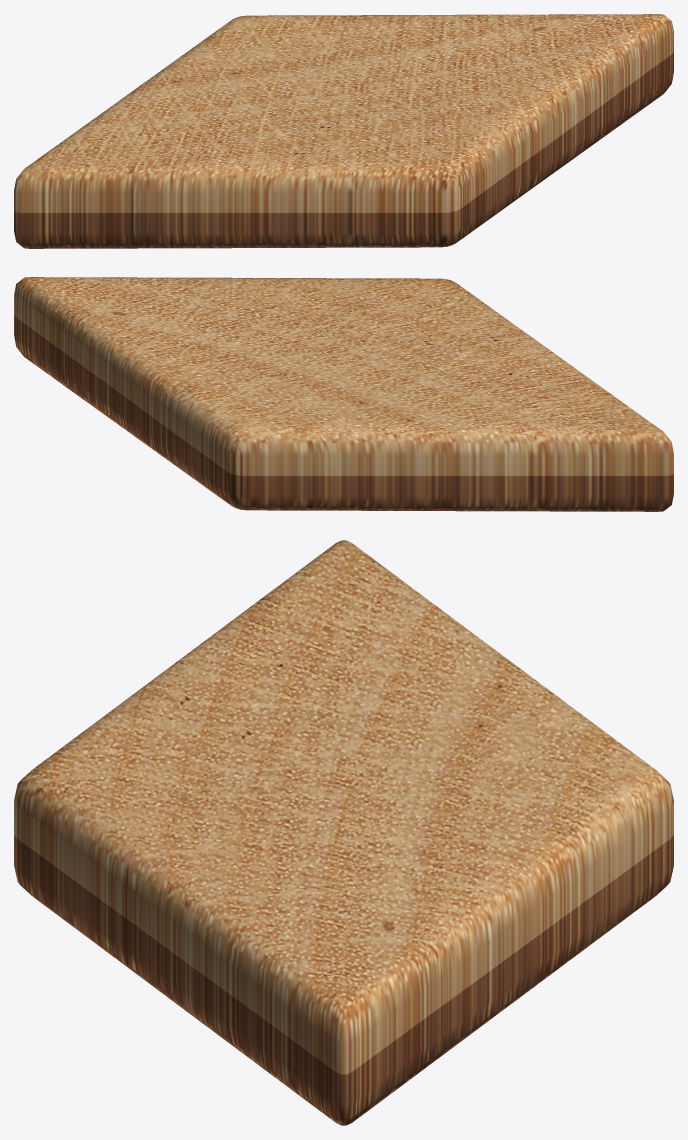
File: RhombusHighPoly.FBX
3 views of the same model, one above another, from view 1: azimuth 30°, elevation 25°; view 2: azimuth 150°, elevation 25°; view 3: azimuth 270°, elevation 25° (orthographic). The views are drawn at different scales.
Visible parts, largest first — view 1: RhombusHighPoly; view 2: RhombusHighPoly; view 3: RhombusHighPoly.
Part boxes in pixels (<box>): RhombusHighPoly: <box>14,14,673,248</box>; RhombusHighPoly: <box>14,277,673,511</box>; RhombusHighPoly: <box>14,540,673,1125</box>.
Size of the model in its own units: 17.08 by 2 by 9.86.
